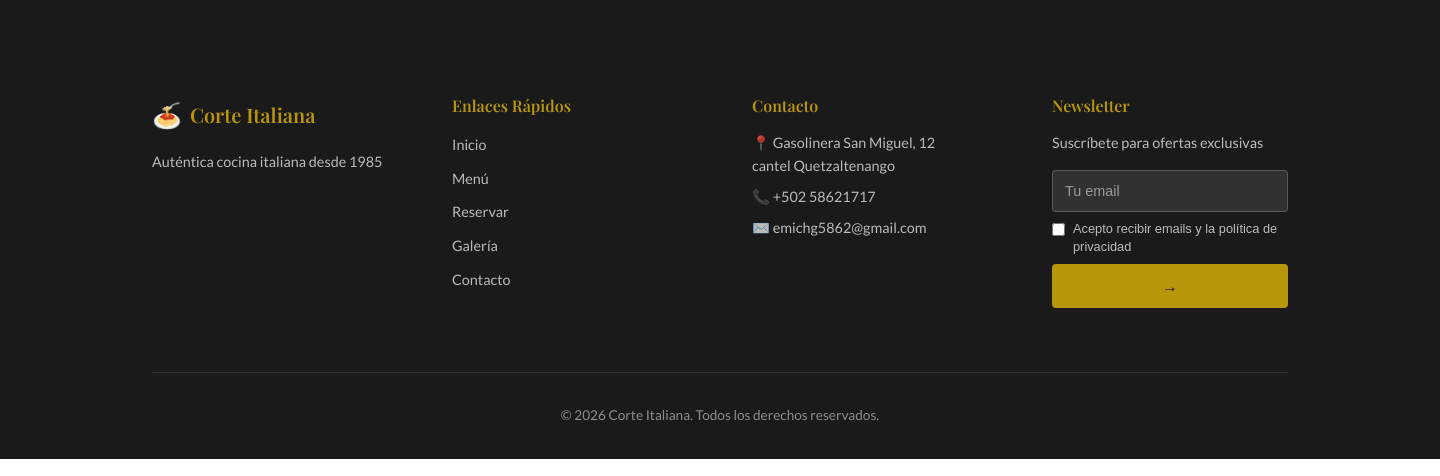
Test: Footer › shows success message on successful newsletter submit
This screenshot has width=1440, height=476.
Type "test@test.com" into the field with placeholder "Tu email" at (1170, 191), box [1052,170,1288,212]
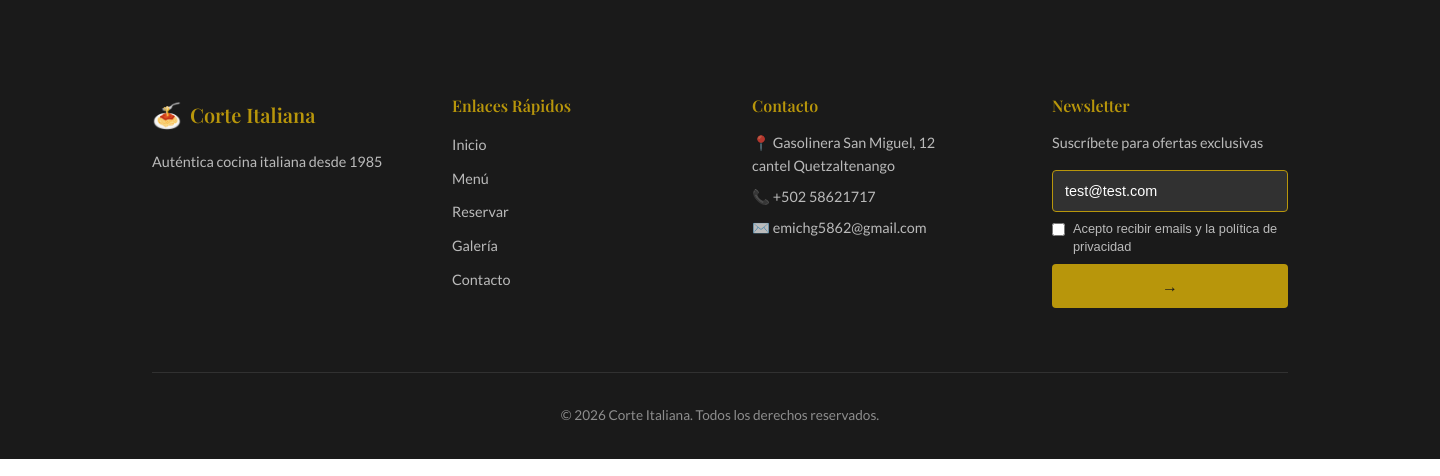
Click the checkbox at (1058, 230), box [1052,223,1065,236]
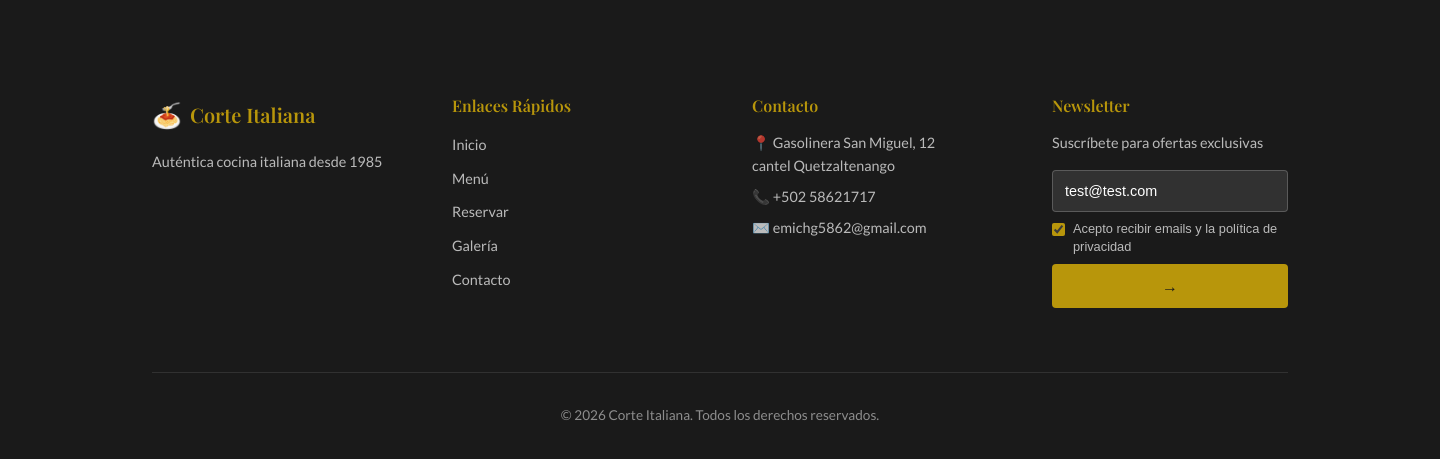
Click the button "→" at (1170, 286), box [1052,264,1288,308]
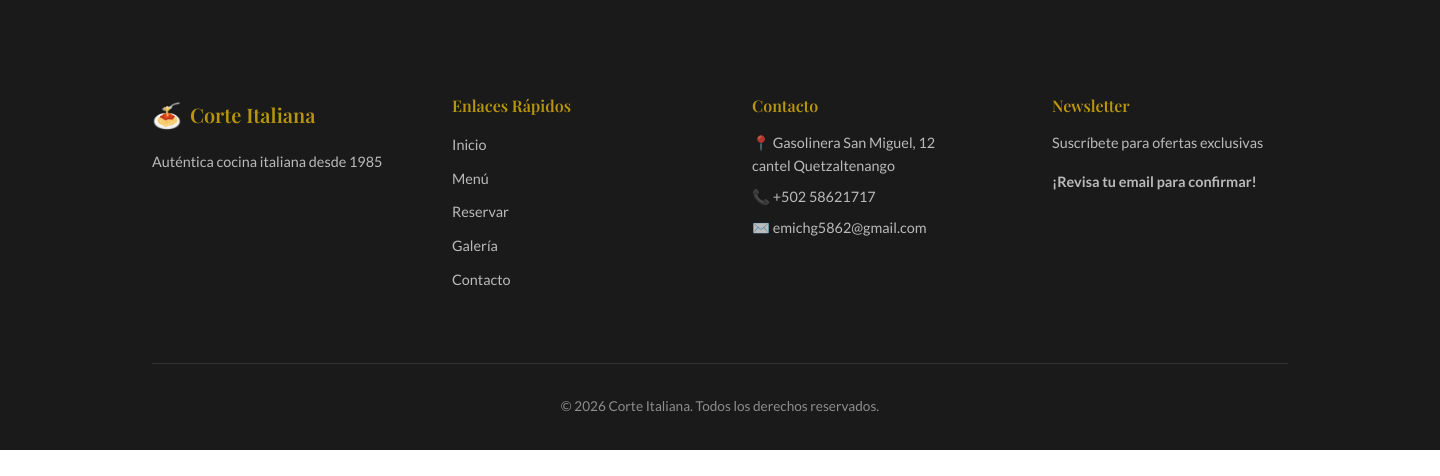
Expected: the text "¡Revisa tu email para confirmar!" is shown, [1052,170,1288,193]
